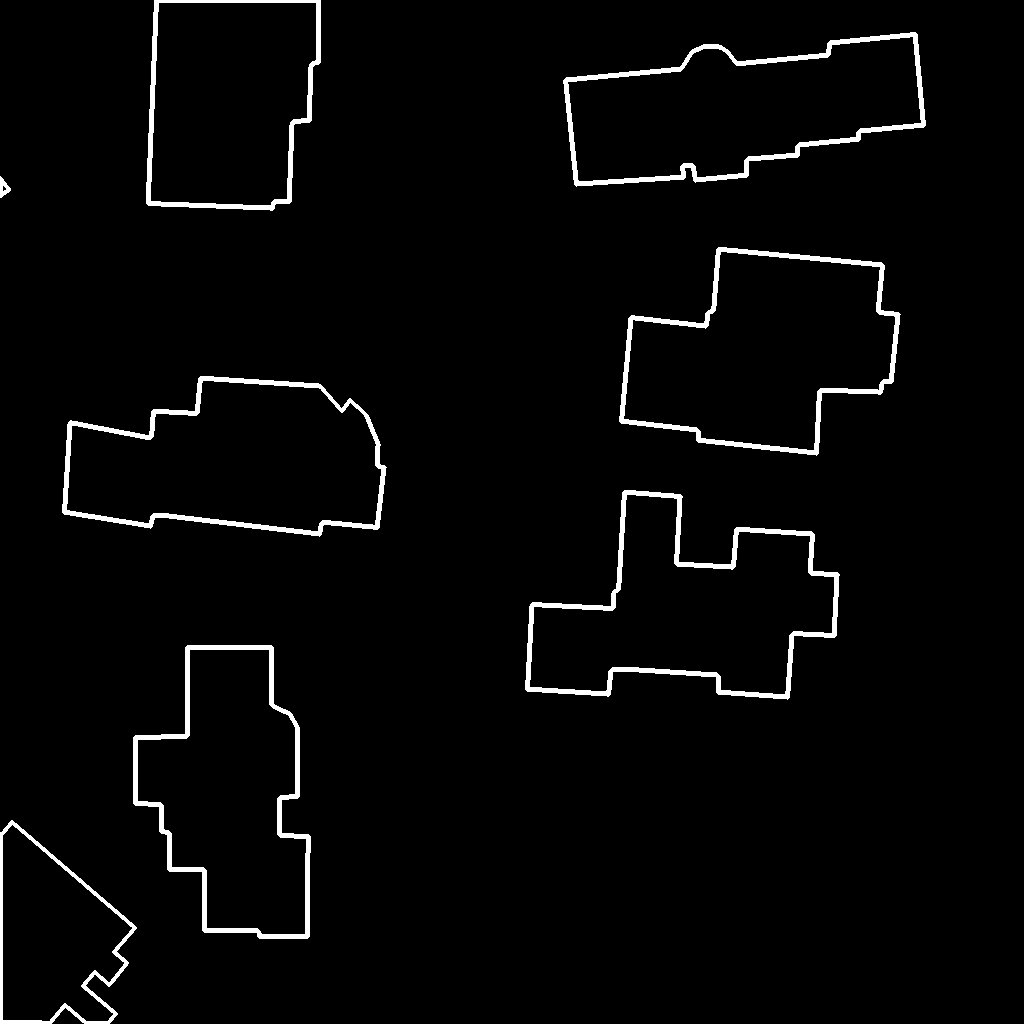building: (527, 492, 838, 698), (621, 249, 899, 454), (565, 34, 925, 185), (135, 647, 309, 937), (64, 378, 385, 535), (148, 0, 320, 209), (0, 822, 136, 1024), (0, 168, 10, 197)
